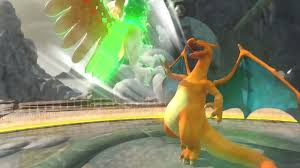charizard: (158, 35, 300, 166)
